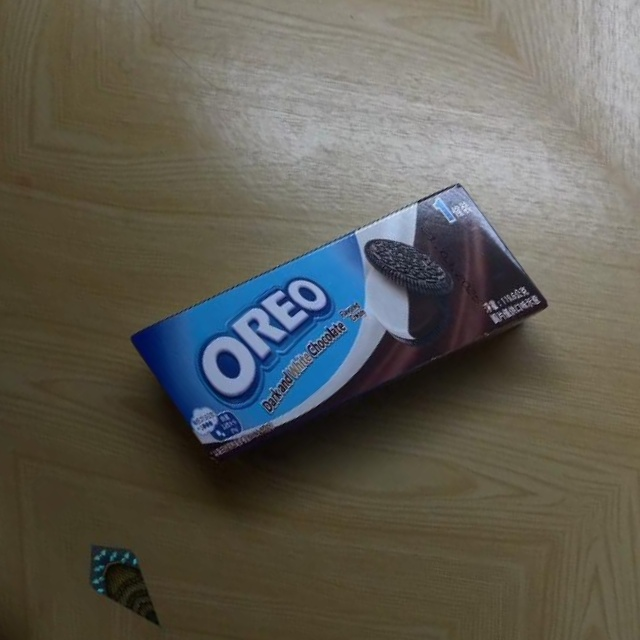Oreo: (114, 109, 557, 538)
